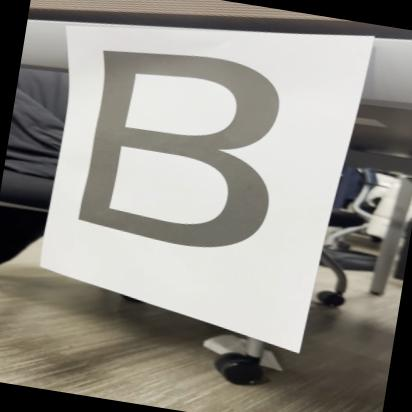seat: (50, 39, 340, 270)
